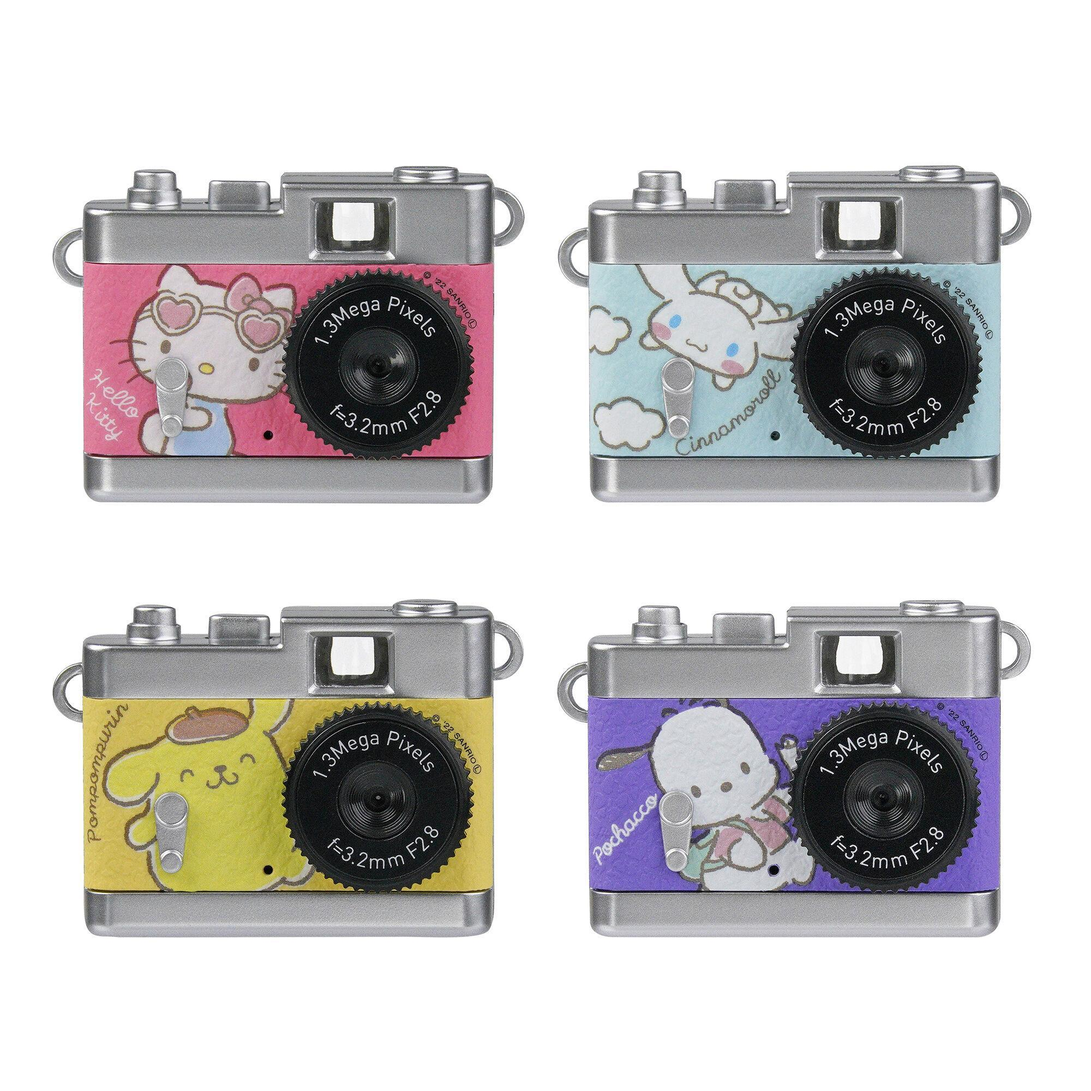degital-camera: (558, 164, 1033, 513), (56, 162, 514, 517), (578, 588, 1015, 951), (71, 598, 503, 949)
